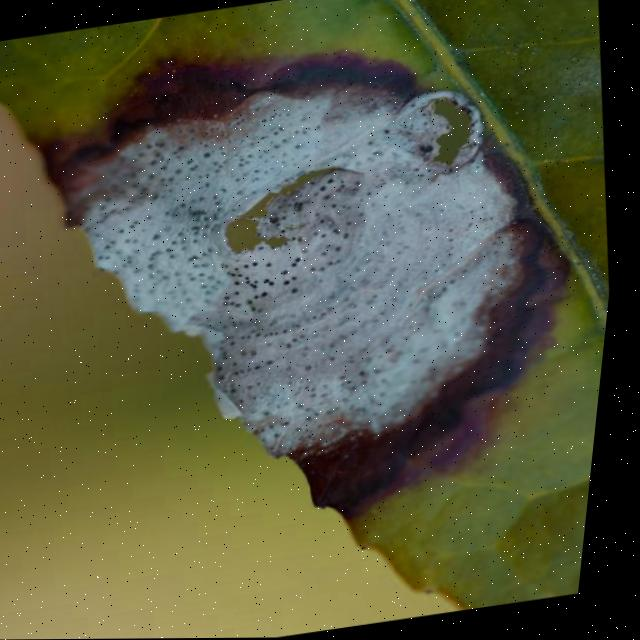Tea cloud leaf blight: (66, 19, 620, 560)
